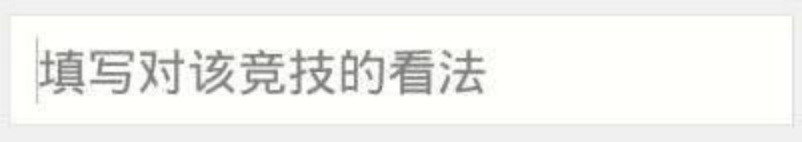EditText: (1, 1, 801, 141)
